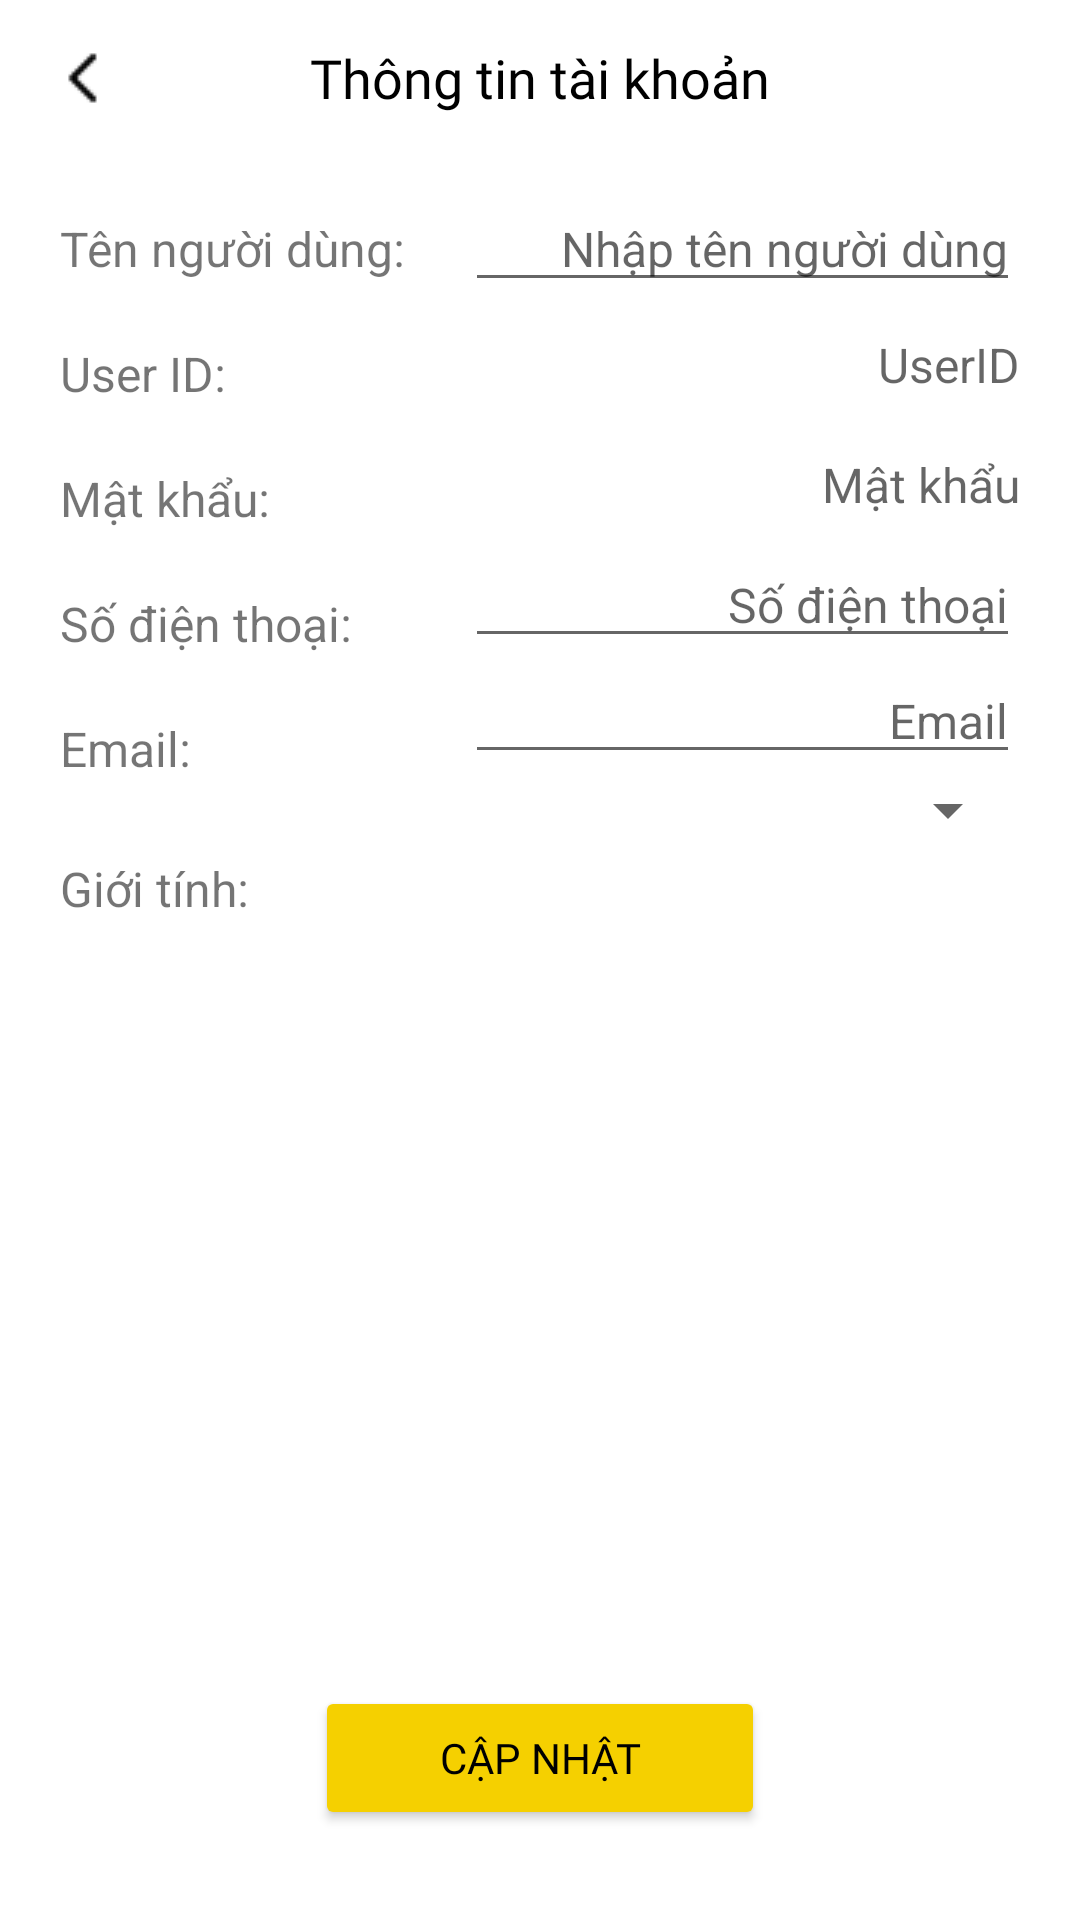

Named icons in this screenshot (1080 x 1920) and their centers, (x,y):
Back: (82,78)
